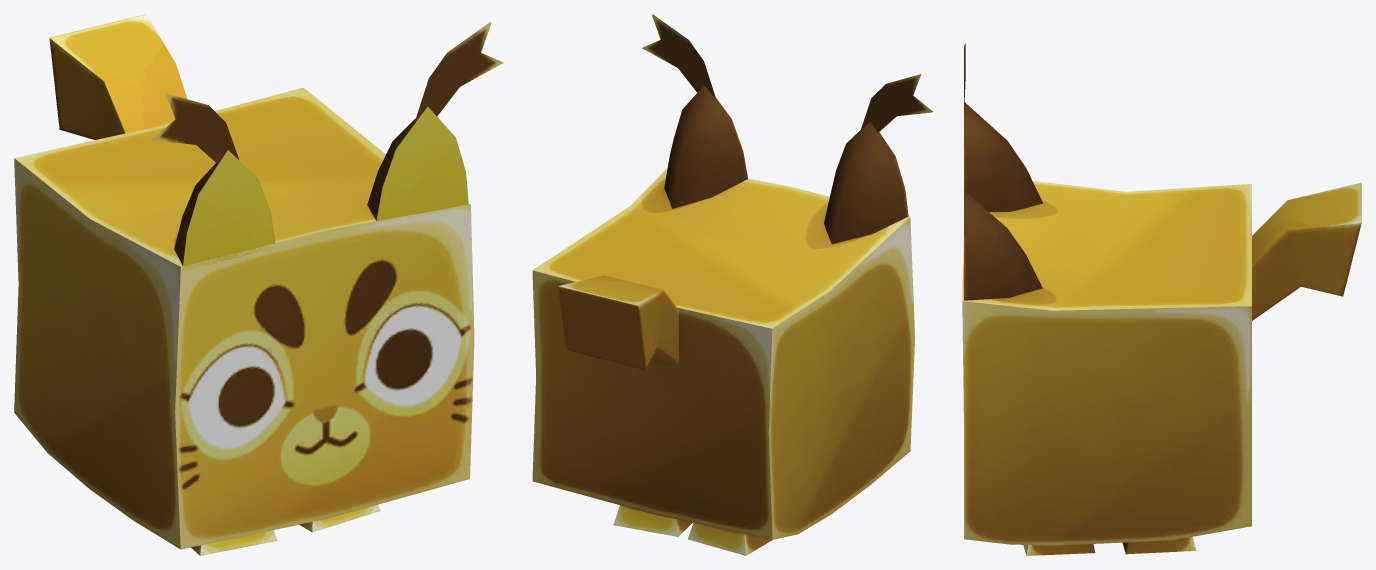
Rendered from pets_42.fbx.
3 views of the same model, side by side, from view 1: azimuth 30°, elevation 25°; view 2: azimuth 150°, elevation 25°; view 3: azimuth 270°, elevation 25° (orthographic). The views are drawn at different scales.
Parts seen in each view (by area): view 1: Pet.062; view 2: Pet.062; view 3: Pet.062.
Part boxes in pixels (x1,y1,x2,y2): Pet.062: [14, 14, 503, 555]; Pet.062: [532, 14, 933, 555]; Pet.062: [962, 43, 1361, 555].
Size of the model in its own units: 0.4634 by 0.5283 by 0.6368.
